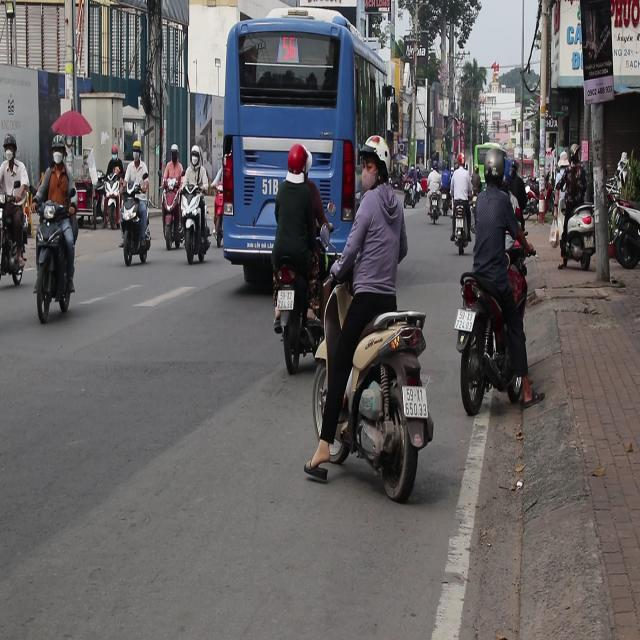bus: (216, 10, 398, 282), (473, 150, 511, 197)
motorbike: (312, 298, 436, 502), (466, 282, 539, 414), (274, 255, 328, 376), (560, 190, 638, 273), (31, 204, 75, 324), (0, 185, 28, 283), (119, 191, 152, 265), (180, 188, 212, 264), (445, 197, 467, 254), (162, 182, 178, 245), (215, 186, 227, 254), (404, 180, 421, 209), (534, 195, 550, 225), (428, 194, 442, 226)
